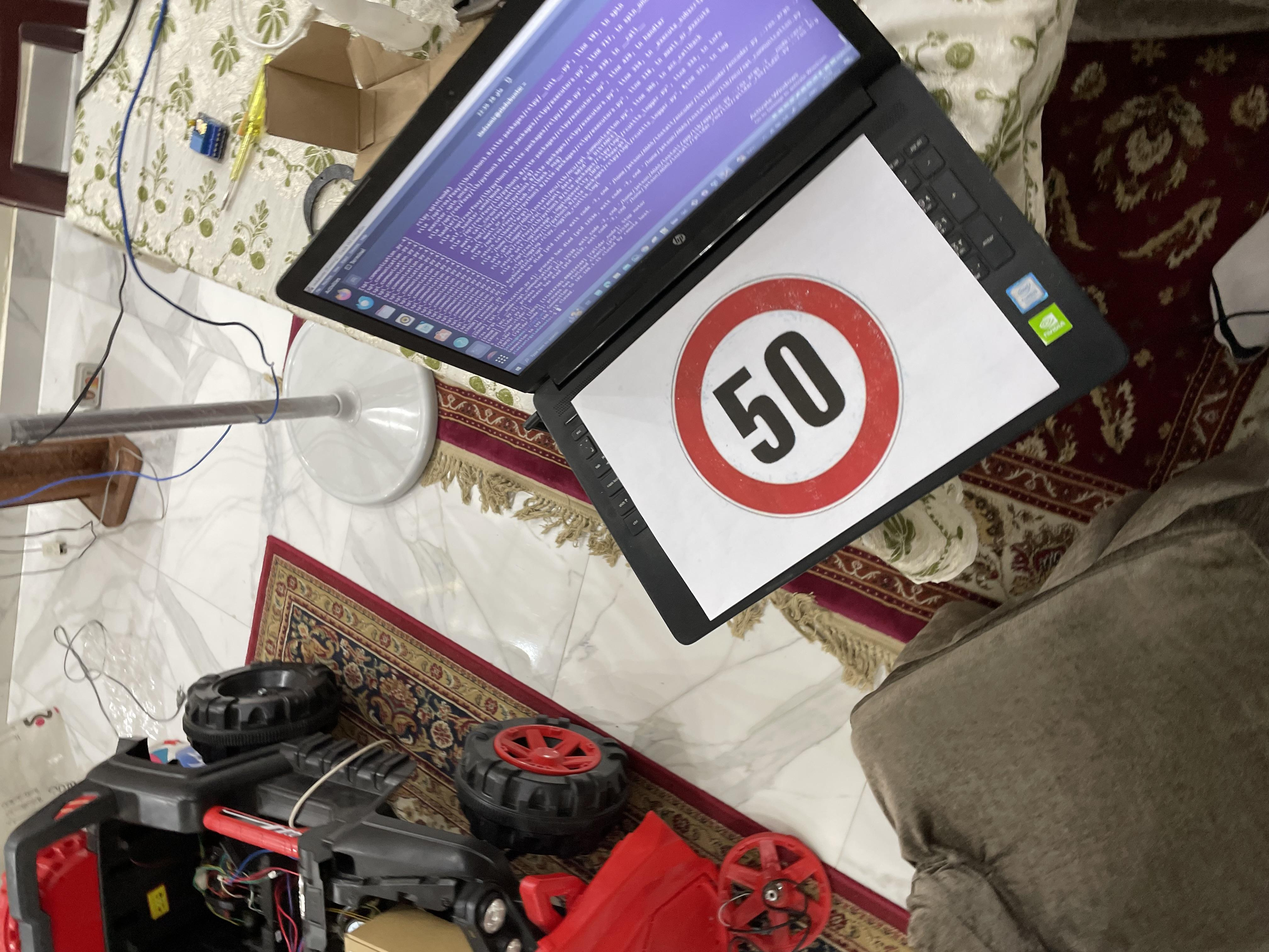50-Speed: (580, 499, 905, 676)
